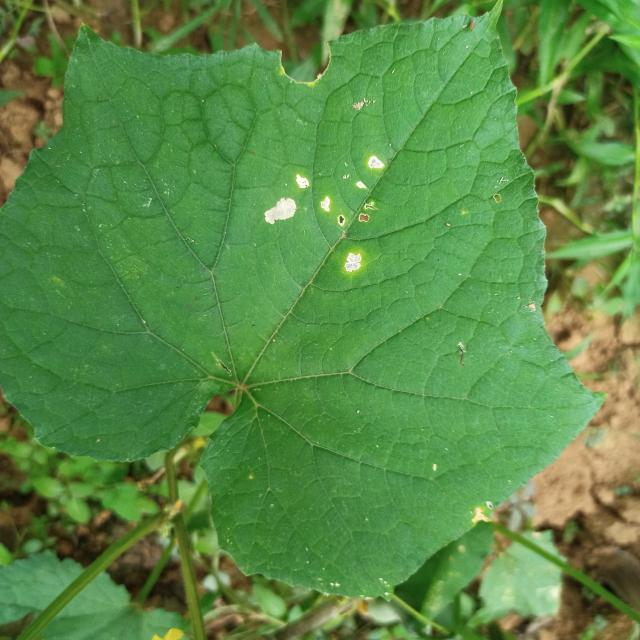disease_cucumber: (266, 151, 384, 273)
